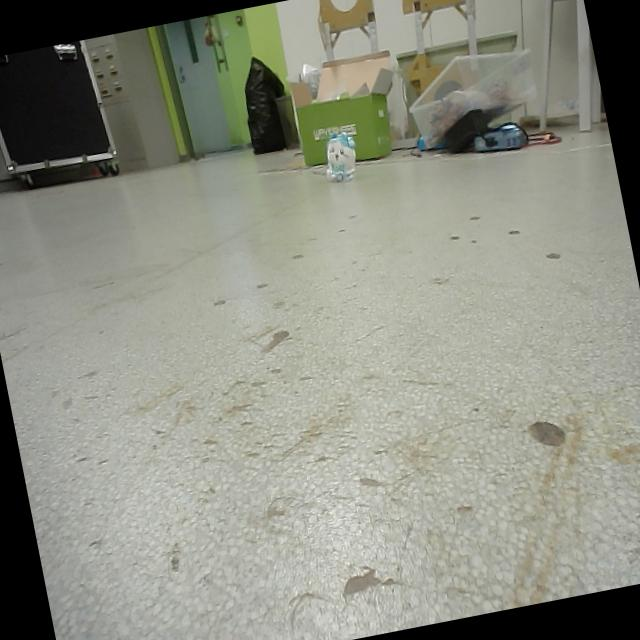xiaoba: (315, 126, 362, 186)
